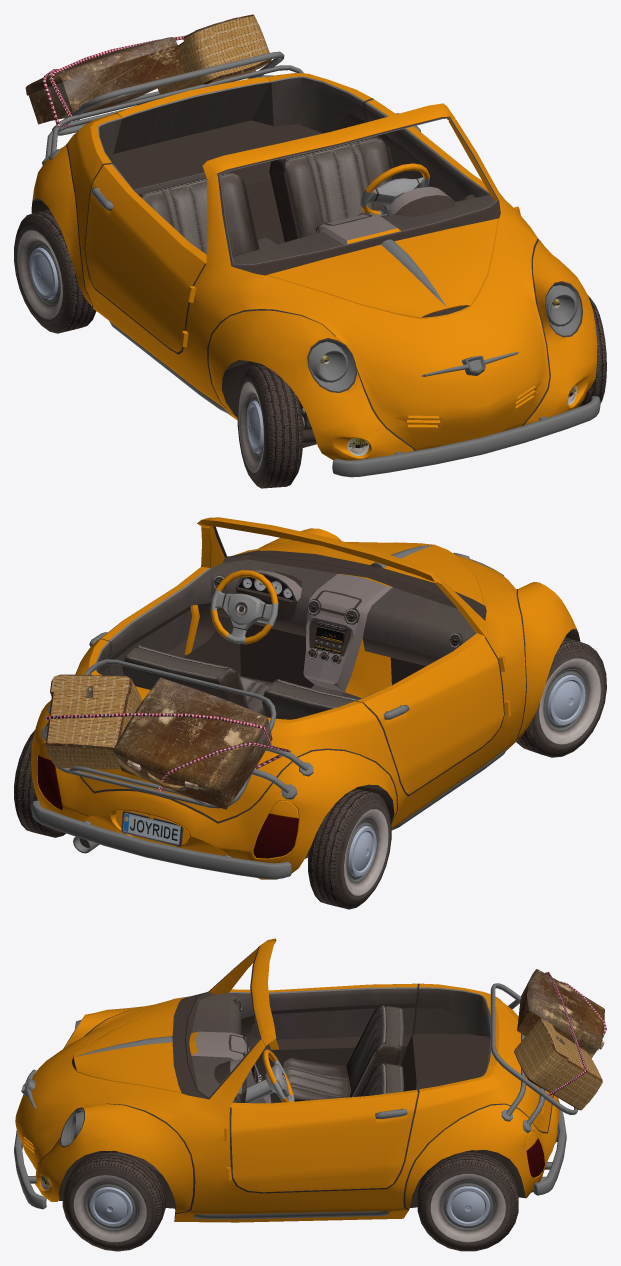
File: 04-classic-car.glb
The picture shows the model from 3 angles, top to bottom: view 1: azimuth 30°, elevation 25°; view 2: azimuth 150°, elevation 25°; view 3: azimuth 270°, elevation 25°; orthographic projection. The views are drawn at different scales.
Parts seen in each view (by area): view 1: polySurface6.30_56, polySurface7.9_11, wheel3.25_35, suitcase_leather.15_22, wheel2.26_40, polySurface8.10_12, polySurface4.22_29, suitcase_basket.14_19, luggage_rack.16_23, polySurface9.11_13, polySurface5.29_51, bungee_cords.17_24 (+1 smaller); view 2: polySurface6.30_56, suitcase_leather.15_22, wheel2.26_40, suitcase_basket.14_19, wheel3.25_35, polySurface3.21_28, polySurface7.9_11, luggage_rack.16_23, polySurface9.11_13, polySurface8.10_12, wheel1.27_45, bungee_cords.17_24 (+1 smaller); view 3: polySurface6.30_56, wheel1.27_45, polySurface5.29_51, polySurface8.10_12, suitcase_basket.14_19, suitcase_leather.15_22, luggage_rack.16_23, polySurface9.11_13, polySurface7.9_11, polySurface3.21_28, polySurface4.22_29, bungee_cords.17_24.
Part boxes in pixels (x1,y1,x2,y2): polySurface6.30_56: [31, 73, 597, 460]; polySurface7.9_11: [269, 136, 395, 242]; wheel3.25_35: [237, 364, 302, 488]; suitcase_leather.15_22: [25, 37, 184, 124]; wheel2.26_40: [14, 209, 96, 333]; polySurface8.10_12: [134, 170, 259, 256]; polySurface4.22_29: [332, 396, 600, 477]; suitcase_basket.14_19: [157, 14, 271, 94]; luggage_rack.16_23: [42, 51, 303, 165]; polySurface9.11_13: [360, 163, 429, 216]; polySurface5.29_51: [570, 295, 606, 407]; bungee_cords.17_24: [42, 35, 255, 127]; polySurface6.30_56: [31, 517, 580, 879]; suitcase_leather.15_22: [113, 677, 272, 809]; wheel2.26_40: [308, 788, 391, 909]; suitcase_basket.14_19: [45, 674, 142, 769]; wheel3.25_35: [516, 637, 606, 757]; polySurface3.21_28: [31, 800, 291, 879]; polySurface7.9_11: [122, 645, 270, 715]; luggage_rack.16_23: [41, 659, 313, 808]; polySurface9.11_13: [210, 570, 278, 644]; polySurface8.10_12: [262, 679, 358, 719]; wheel1.27_45: [14, 730, 65, 837]; bungee_cords.17_24: [45, 713, 290, 791]; polySurface6.30_56: [15, 938, 559, 1222]; wheel1.27_45: [417, 1151, 518, 1251]; polySurface5.29_51: [62, 1151, 165, 1251]; polySurface8.10_12: [283, 1005, 404, 1101]; suitcase_basket.14_19: [514, 1018, 602, 1110]; suitcase_leather.15_22: [517, 969, 605, 1058]; luggage_rack.16_23: [490, 983, 577, 1132]; polySurface9.11_13: [245, 1049, 294, 1103]; polySurface7.9_11: [360, 1063, 404, 1096]; polySurface3.21_28: [534, 1098, 566, 1195]; polySurface4.22_29: [14, 1130, 46, 1209]; bungee_cords.17_24: [545, 972, 606, 1095].
Bounding box in the file's own units: 0.0168 × 0.0111 × 0.0294.
Materials: 57 (50 with a texture image).
